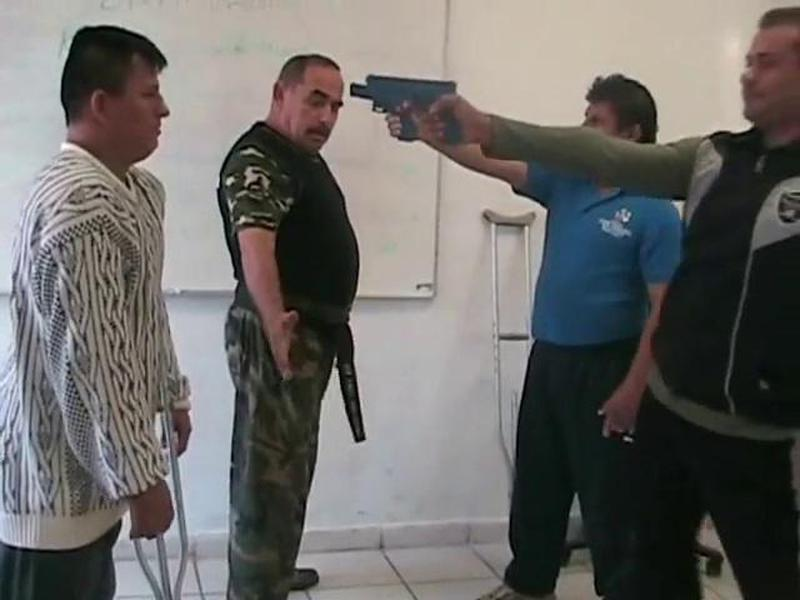Pistola: (363, 65, 467, 149)
